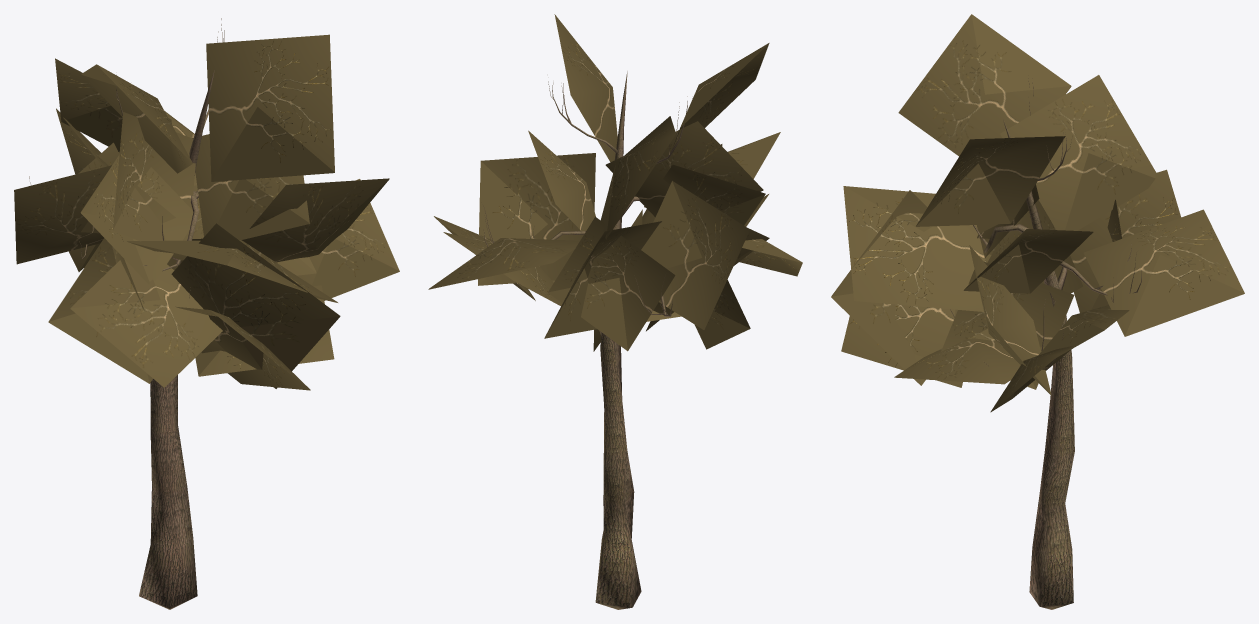
The model's file is tree_3.dae.
3 views of the same model, side by side, from view 1: azimuth 30°, elevation 25°; view 2: azimuth 150°, elevation 25°; view 3: azimuth 270°, elevation 25° (orthographic). The views are drawn at different scales.
Visible parts, largest first — view 1: Leafs, Leafs_reverse, Branches; view 2: Leafs, Leafs_reverse, Branches; view 3: Leafs, Leafs_reverse, Branches.
Part boxes in pixels (x1,y1,x2,y2): Leafs: (14,34,399,389); Leafs_reverse: (14,59,399,390); Branches: (29,18,224,609); Leafs: (428,14,802,350); Leafs_reverse: (429,18,802,351); Branches: (482,71,692,609); Leafs: (831,14,1244,411); Leafs_reverse: (831,86,1244,412); Branches: (950,78,1141,609).
Size of the model in its own units: 6.54 by 7.59 by 11.01.
Materials: 3 (2 with a texture image).
